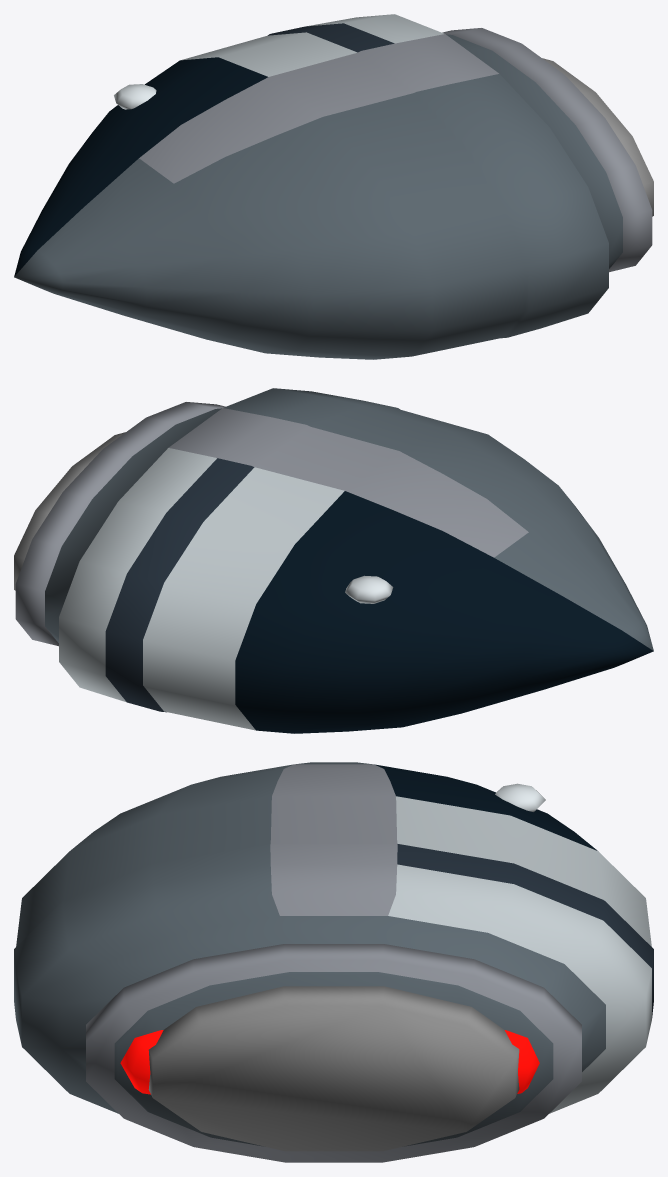
Rendered from newsha-161.glb.
3 renders of one model, top to bottom at view 1: azimuth 30°, elevation 25°; view 2: azimuth 150°, elevation 25°; view 3: azimuth 270°, elevation 25°, orthographic. The views are drawn at different scales.
Visible parts, largest first — view 1: newsha-161; view 2: newsha-161; view 3: newsha-161.
Part boxes in pixels (bbox=[...]): newsha-161: bbox=[14, 14, 653, 359]; newsha-161: bbox=[14, 388, 653, 733]; newsha-161: bbox=[14, 762, 653, 1162].
Bounding box in the file's own units: 1.51 × 0.5885 × 1.31.
